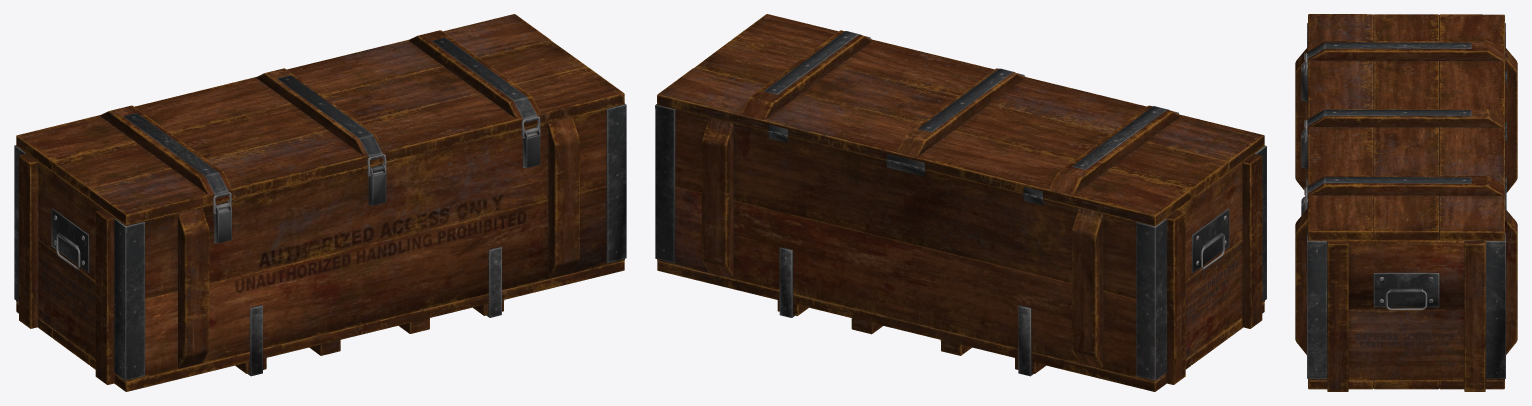
The model's file is wooden_military_crate.glb.
3 renders of one model, left to right at view 1: azimuth 30°, elevation 25°; view 2: azimuth 150°, elevation 25°; view 3: azimuth 270°, elevation 25°, orthographic. The views are drawn at different scales.
Parts seen in each view (by area): view 1: wooden_military_crate, wooden_military_crate_lid; view 2: wooden_military_crate, wooden_military_crate_lid; view 3: wooden_military_crate_lid, wooden_military_crate.
Boxes of the visible parts, bbox=[...] form: wooden_military_crate: bbox=[14, 103, 626, 391]; wooden_military_crate_lid: bbox=[16, 14, 624, 224]; wooden_military_crate: bbox=[655, 104, 1266, 391]; wooden_military_crate_lid: bbox=[657, 14, 1264, 225]; wooden_military_crate_lid: bbox=[1304, 14, 1506, 240]; wooden_military_crate: bbox=[1295, 23, 1517, 391].
Size of the model in its own units: 1.24 by 0.4647 by 0.5198.
1 material, 1 textured.
